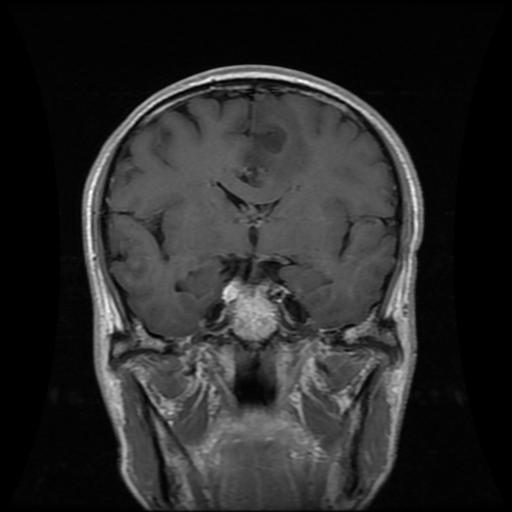Gliomia_tumour: (228, 97, 308, 183)
